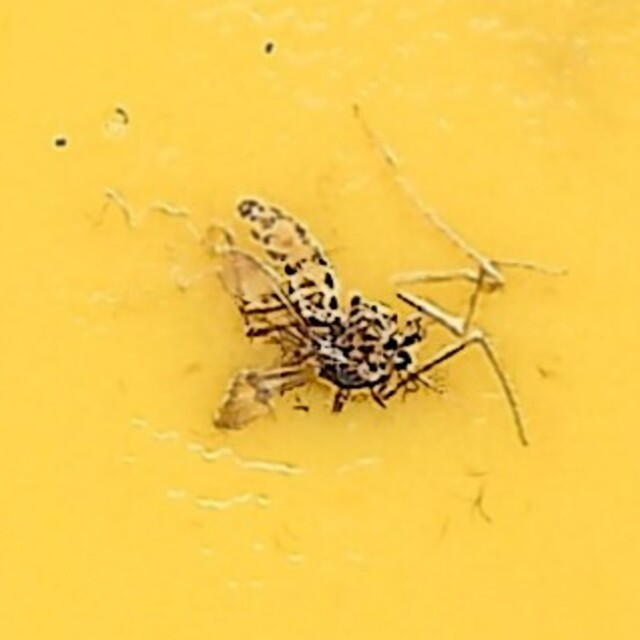Nematocera: (201, 193, 439, 447)
